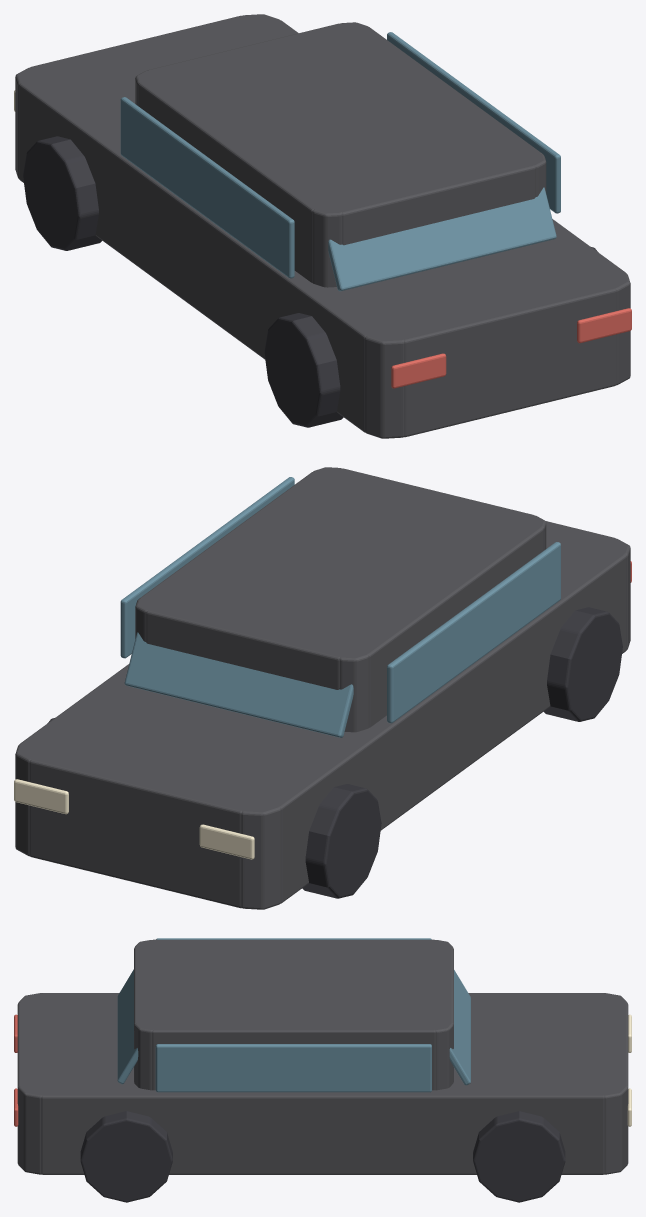
The model's file is CarBlack.fbx.
The picture shows the model from 3 angles, top to bottom: view 1: azimuth 30°, elevation 25°; view 2: azimuth 150°, elevation 25°; view 3: azimuth 270°, elevation 25°; orthographic projection. The views are drawn at different scales.
Parts seen in each view (by area): view 1: CarBlack; view 2: CarBlack; view 3: CarBlack.
Part boxes in pixels (left/top/right/bottom): CarBlack: left=14, top=14, right=631, bottom=438; CarBlack: left=14, top=467, right=631, bottom=909; CarBlack: left=14, top=938, right=631, bottom=1202.
Bounding box in the file's own units: 196 × 120 × 425.
